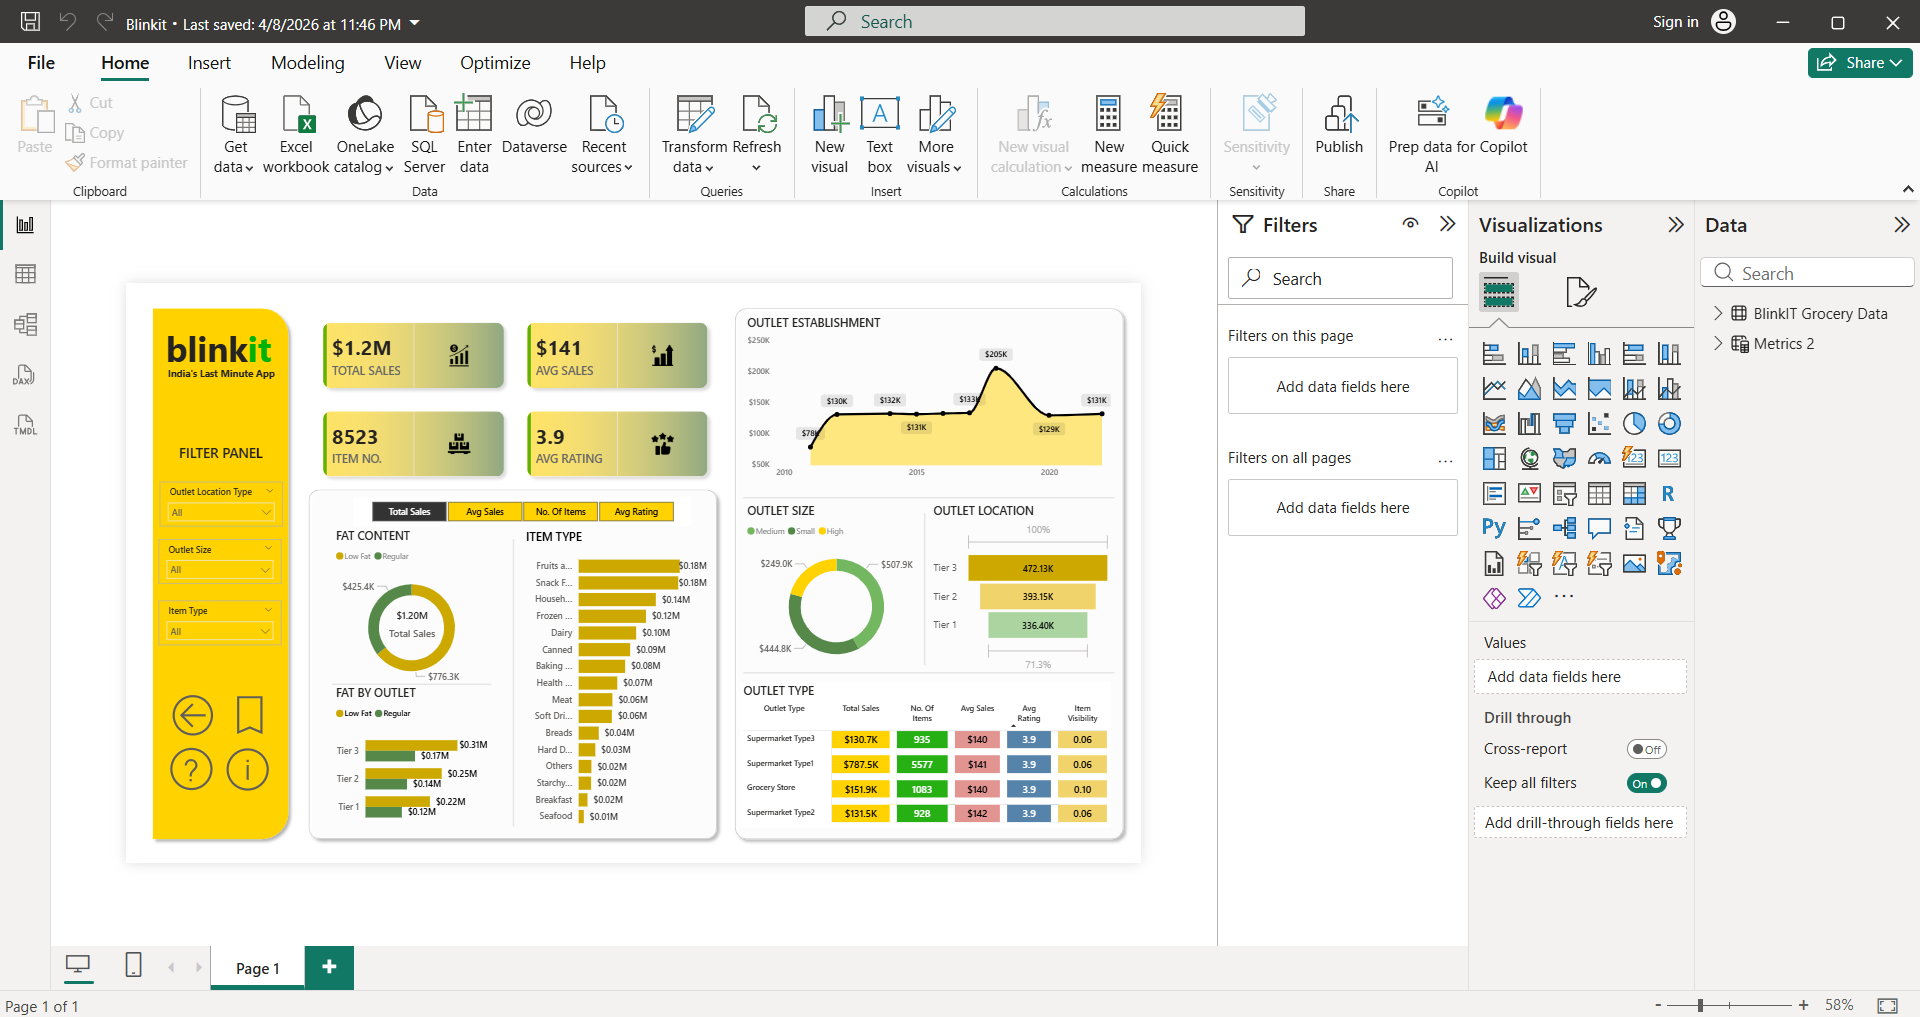

Layout of this report page (visuals, bound fields, positions):
{"tool":"powerbi","page":{"name":"Page 1","canvas":[1400,800],"ordinal":0},"visuals":[{"type":"shape","box":[27,25.5,205.6,750.4],"z":0},{"type":"textbox","box":[49.5,52.5,160.6,79.5],"z":1000},{"type":"textbox","box":[40.5,111.1,181.6,40.5],"z":2000},{"type":"cardVisual","fields":{"Data":["BlinkIT Grocery Data.Total Sales","BlinkIT Grocery Data.Avg Sales","BlinkIT Grocery Data.No. Of Items","BlinkIT Grocery Data.Avg Rating"]},"box":[243.1,25.5,588.3,270.2],"z":3000},{"type":"shape","box":[243.1,276.2,580.8,499.8],"z":4000},{"type":"donutChart","title":"FAT CONTENT","fields":{"Y":["BlinkIT Grocery Data.Total Sales"],"Category":["BlinkIT Grocery Data.Item Fat Content"]},"box":[285.2,336.2,219.1,229.6],"z":5000},{"type":"slicer","fields":{"Values":["Metrics 2.Metrics"]},"box":[313.7,295.7,465.3,40.5],"z":6000},{"type":"card","fields":{"Values":["BlinkIT Grocery Data.Total Sales"]},"box":[348.2,439.8,93.1,60],"z":7000},{"type":"clusteredBarChart","title":"FAT BY OUTLET","fields":{"Y":["BlinkIT Grocery Data.Total Sales"],"Category":["BlinkIT Grocery Data.Outlet Location Type"],"Series":["BlinkIT Grocery Data.Item Fat Content"]},"box":[285.2,553.8,219.1,205.6],"z":8000},{"type":"shape","box":[285.2,547.8,219.1,10.5],"z":9000},{"type":"shape","box":[522.3,354.2,24,396.2],"z":10000},{"type":"barChart","title":"ITEM TYPE","fields":{"Y":["BlinkIT Grocery Data.Total Sales"],"Category":["BlinkIT Grocery Data.Item Type"]},"box":[546.3,337.7,259.6,421.7],"z":11000},{"type":"shape","box":[831.5,25.5,553.8,750.4],"z":12000},{"type":"lineChart","title":"OUTLET ESTABLISHMENT","fields":{"Category":["BlinkIT Grocery Data.Outlet Establishment Year"],"Y":["BlinkIT Grocery Data.Total Sales"]},"box":[852.5,43.5,511.8,235.6],"z":13000},{"type":"shape","box":[852.5,276.2,511.8,40.5],"z":14000},{"type":"donutChart","title":"OUTLET SIZE","fields":{"Y":["BlinkIT Grocery Data.Total Sales"],"Category":["BlinkIT Grocery Data.Outlet Size"]},"box":[852.5,301.7,256.6,240.1],"z":15000},{"type":"shape","box":[1095.6,316.7,13.5,210.1],"z":16000},{"type":"funnel","title":"OUTLET LOCATION","fields":{"Y":["Sum(BlinkIT Grocery Data.Sales)"],"Category":["BlinkIT Grocery Data.Outlet Location Type"]},"box":[1109.1,301.7,255.1,240.1],"z":17000},{"type":"shape","box":[852.5,517.8,511.8,40.5],"z":18000},{"type":"pivotTable","title":"OUTLET TYPE","fields":{"Rows":["BlinkIT Grocery Data.Outlet Type"],"Values":["BlinkIT Grocery Data.Total Sales","BlinkIT Grocery Data.No. Of Items","BlinkIT Grocery Data.Avg Sales","BlinkIT Grocery Data.Avg Rating","Avg(BlinkIT Grocery Data.Item Visibility)"]},"box":[846.5,549.3,511.8,201.1],"z":19000},{"type":"slicer","fields":{"Values":["BlinkIT Grocery Data.Outlet Location Type"]},"box":[46.5,274.7,169.6,61.5],"z":20000},{"type":"slicer","fields":{"Values":["BlinkIT Grocery Data.Outlet Size"]},"box":[45,354.2,169.6,61.5],"z":21000},{"type":"slicer","fields":{"Values":["BlinkIT Grocery Data.Item Type"]},"box":[45,438.3,169.6,61.5],"z":22000},{"type":"textbox","box":[46.5,217.6,168.1,45],"z":23000},{"type":"actionButton","box":[130.6,630.4,73.5,79.5],"z":23002},{"type":"actionButton","box":[57,558.3,70.5,75],"z":23004},{"type":"actionButton","box":[138.1,562.8,66,67.5],"z":23005},{"type":"actionButton","box":[54,633.4,73.5,75],"z":23006}]}

Visuals, with their boxes on the page's 1400x800 design canvas (x1, y1, x2, y2). These are canvas units, not pixel positions in the 1920x1017 screenshot, which may show the page scaled, cropped or inside an application window:
shape: <bbox>27, 26, 233, 776</bbox>
textbox: <bbox>50, 52, 210, 132</bbox>
textbox: <bbox>40, 111, 222, 152</bbox>
cardVisual - BlinkIT Grocery Data.Total Sales x BlinkIT Grocery Data.Avg Sales: <bbox>243, 26, 831, 296</bbox>
shape: <bbox>243, 276, 824, 776</bbox>
"FAT CONTENT" donutChart: <bbox>285, 336, 504, 566</bbox>
slicer - Metrics 2.Metrics: <bbox>314, 296, 779, 336</bbox>
card - BlinkIT Grocery Data.Total Sales: <bbox>348, 440, 441, 500</bbox>
"FAT BY OUTLET" clusteredBarChart: <bbox>285, 554, 504, 759</bbox>
shape: <bbox>285, 548, 504, 558</bbox>
shape: <bbox>522, 354, 546, 750</bbox>
"ITEM TYPE" barChart: <bbox>546, 338, 806, 759</bbox>
shape: <bbox>832, 26, 1385, 776</bbox>
"OUTLET ESTABLISHMENT" lineChart: <bbox>852, 44, 1364, 279</bbox>
shape: <bbox>852, 276, 1364, 317</bbox>
"OUTLET SIZE" donutChart: <bbox>852, 302, 1109, 542</bbox>
shape: <bbox>1096, 317, 1109, 527</bbox>
"OUTLET LOCATION" funnel: <bbox>1109, 302, 1364, 542</bbox>
shape: <bbox>852, 518, 1364, 558</bbox>
"OUTLET TYPE" pivotTable: <bbox>846, 549, 1358, 750</bbox>
slicer - BlinkIT Grocery Data.Outlet Location Type: <bbox>46, 275, 216, 336</bbox>
slicer - BlinkIT Grocery Data.Outlet Size: <bbox>45, 354, 215, 416</bbox>
slicer - BlinkIT Grocery Data.Item Type: <bbox>45, 438, 215, 500</bbox>
textbox: <bbox>46, 218, 215, 263</bbox>
actionButton: <bbox>131, 630, 204, 710</bbox>
actionButton: <bbox>57, 558, 128, 633</bbox>
actionButton: <bbox>138, 563, 204, 630</bbox>
actionButton: <bbox>54, 633, 128, 708</bbox>
